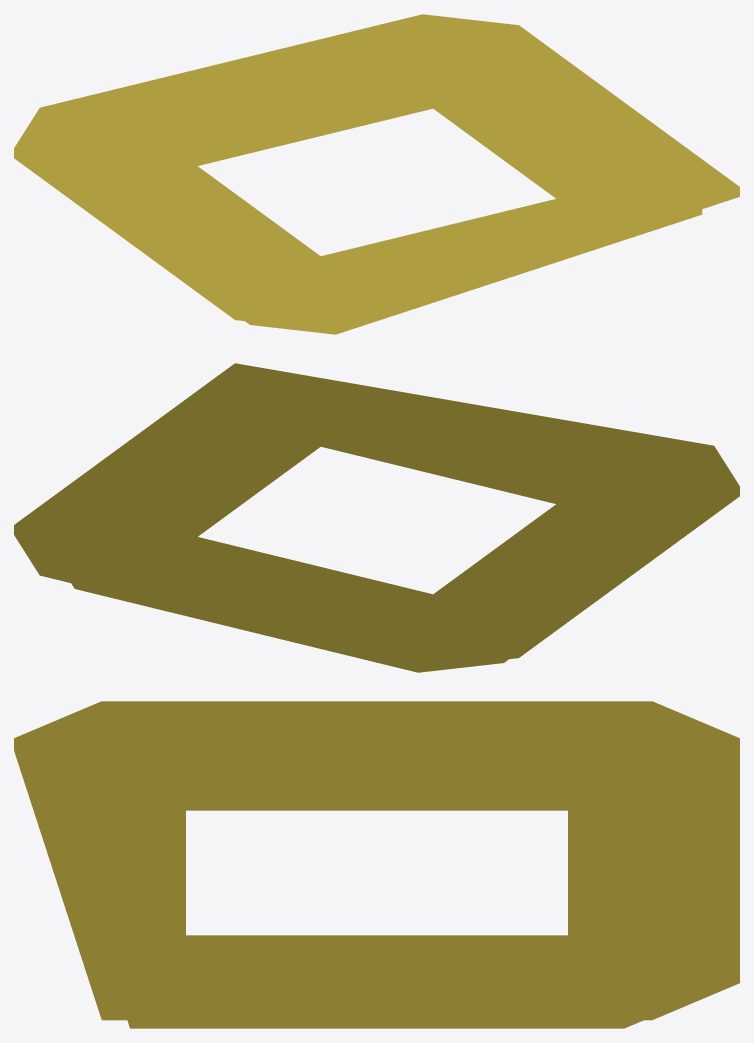
The model's file is base_air.glb.
3 renders of one model, top to bottom at view 1: azimuth 30°, elevation 25°; view 2: azimuth 150°, elevation 25°; view 3: azimuth 270°, elevation 25°, orthographic. The views are drawn at different scales.
Visible parts, largest first — view 1: mesh0; view 2: mesh0; view 3: mesh0.
Boxes of the visible parts, x1,y1,x2,y2 form: mesh0: (14,14,739,334); mesh0: (14,363,739,672); mesh0: (14,701,739,1028).
Bounding box in the file's own units: 40.2 × 2.25 × 40.2.
